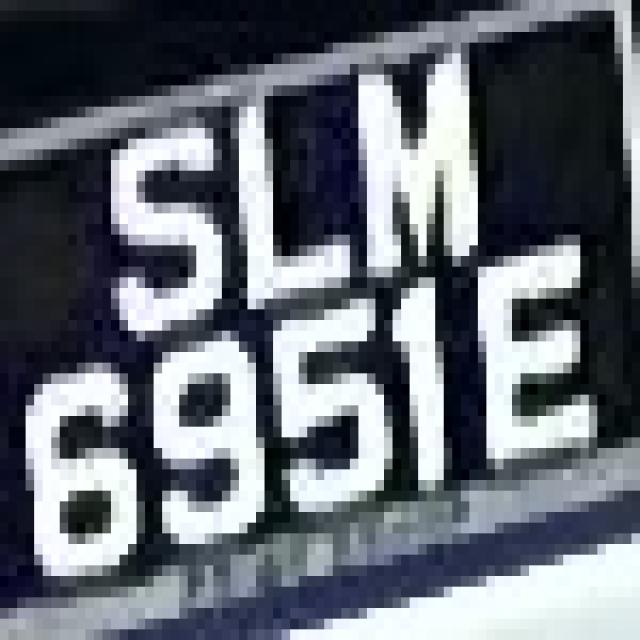1: (384, 245, 478, 555)
5: (273, 266, 384, 554)
6: (9, 352, 162, 587)
9: (128, 320, 290, 587)
E: (461, 235, 614, 512)
L: (222, 64, 358, 309)
M: (333, 21, 486, 278)
S: (85, 86, 222, 342)
